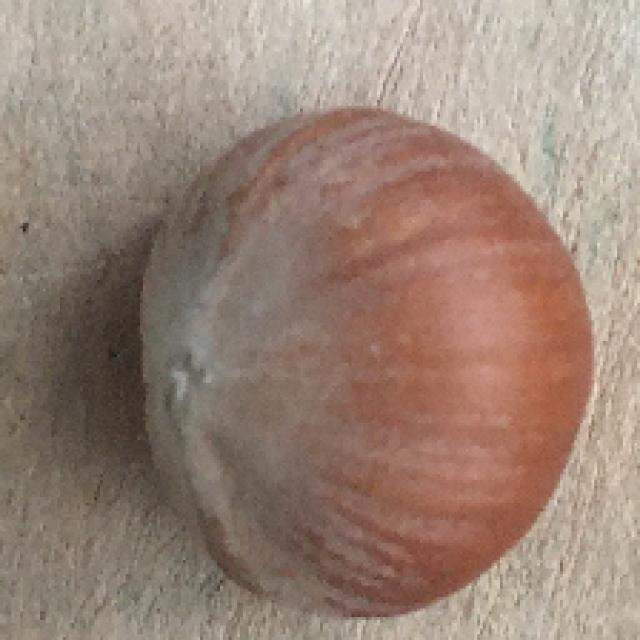QualityHazelnut: (142, 106, 599, 624)
